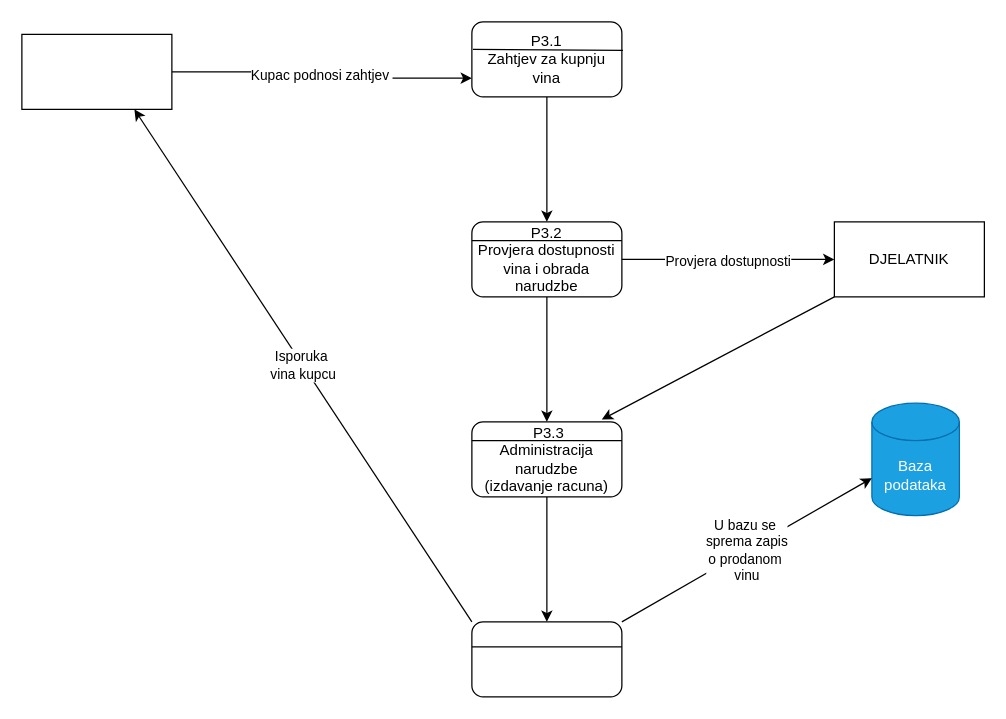
Image size: 1006x719. Some labels were removed from this diagram. Each missing label, with the box of its shape:
KUPAC: (21, 33, 172, 109)
P3.4 Pakiranje i isporuka vina: (471, 621, 622, 697)
